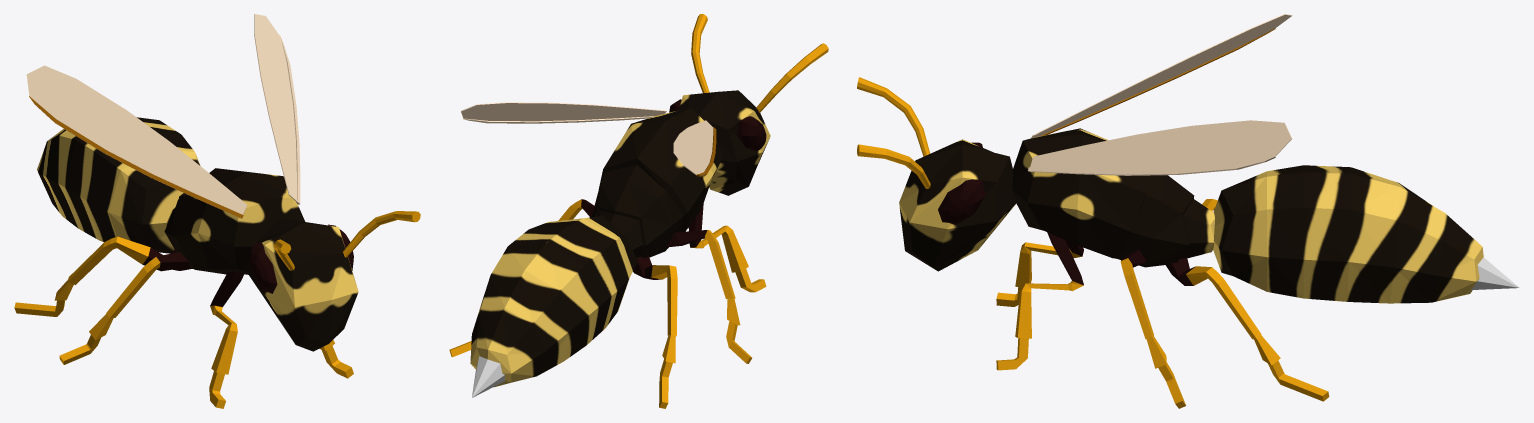
The model's file is a6206bac-5dc3-4474-94c2-5b29a870a062.glb.
3 renders of one model, left to right at view 1: azimuth 30°, elevation 25°; view 2: azimuth 150°, elevation 25°; view 3: azimuth 270°, elevation 25°, orthographic. The views are drawn at different scales.
Visible parts, largest first — view 1: Node; view 2: Node; view 3: Node.
Part boxes in pixels (<box>): Node: <box>14,14,420,408</box>; Node: <box>449,14,828,408</box>; Node: <box>857,14,1519,408</box>.
Size of the model in its own units: 2.79 by 2.5 by 5.48.
Materials: 8 (1 with a texture image).
